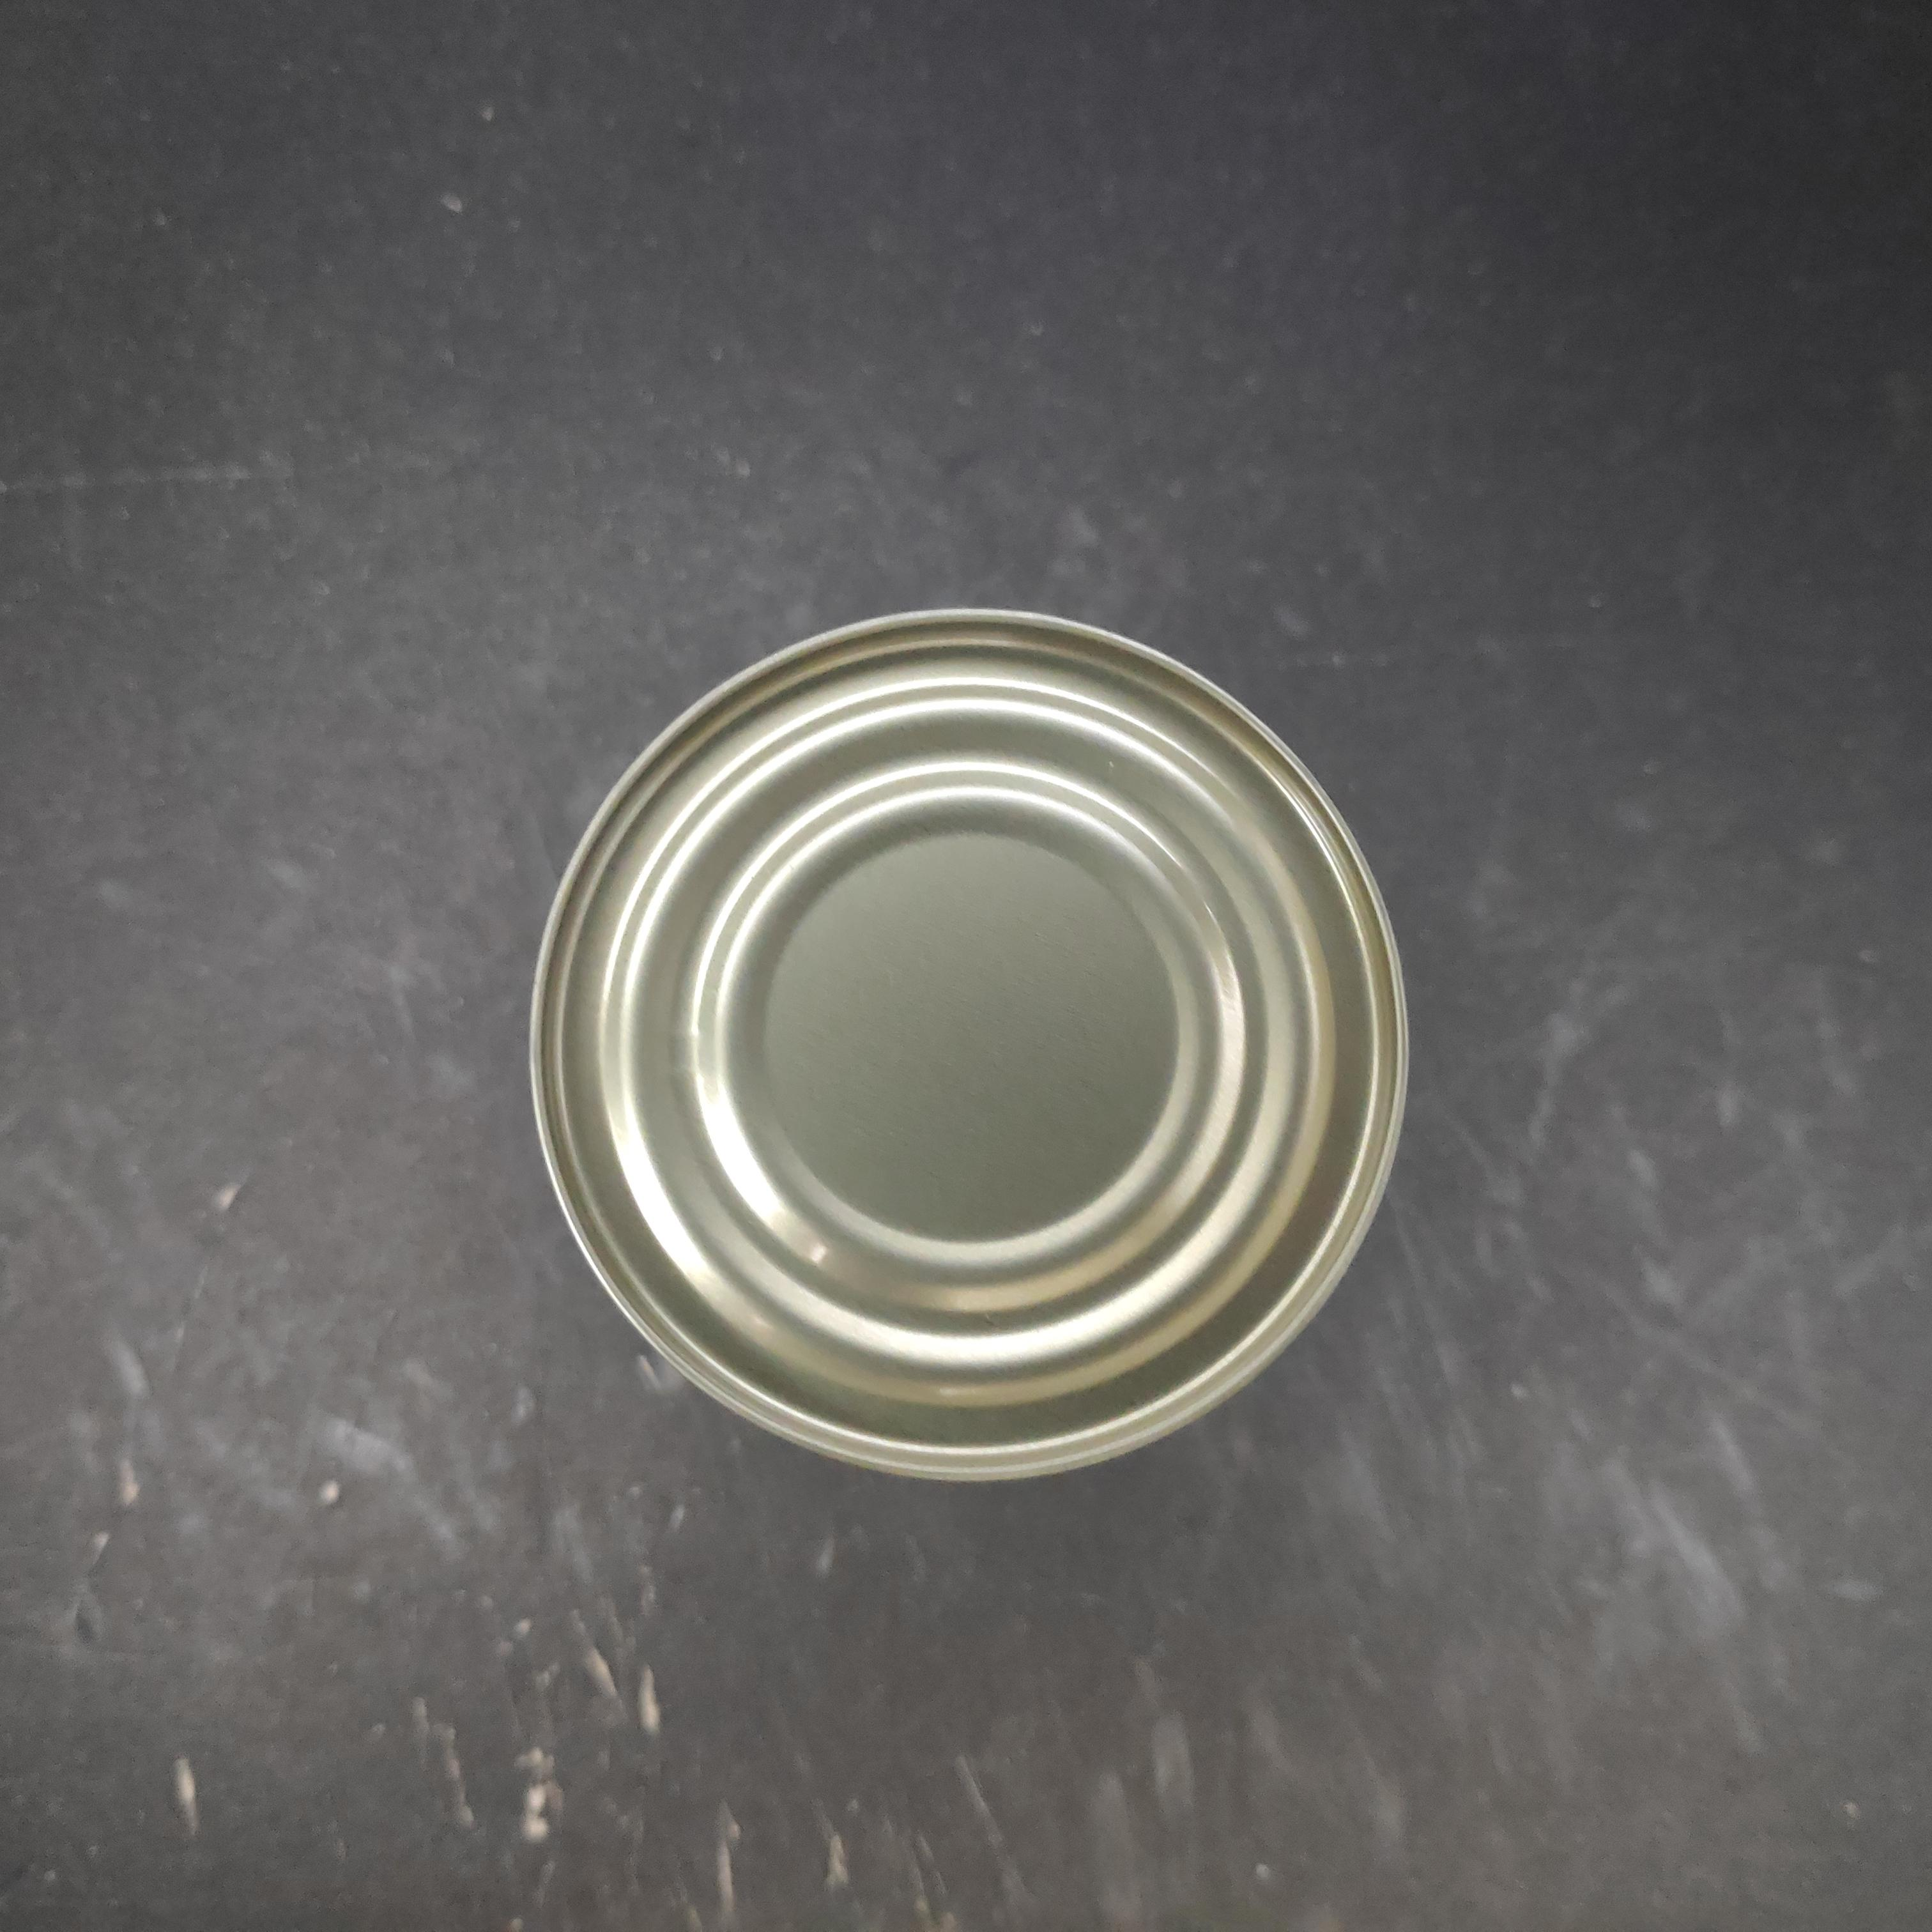No defect: (606, 519, 1485, 1402)
